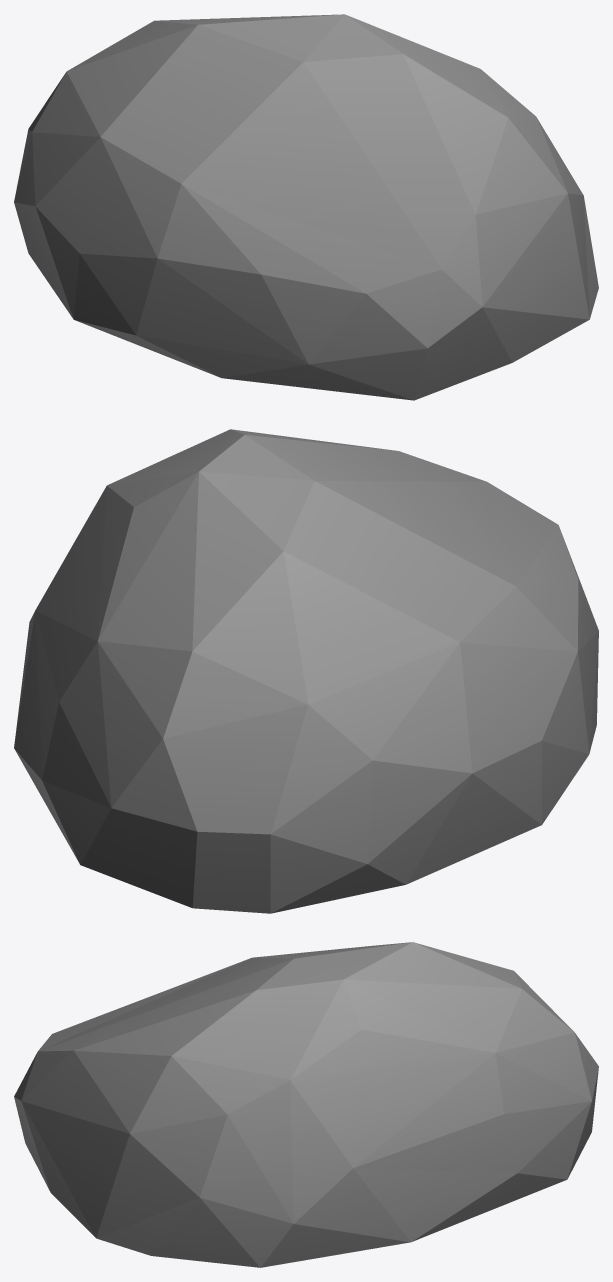
Rendered from Stone2.fbx.
3 views of the same model, one above another, from view 1: azimuth 30°, elevation 25°; view 2: azimuth 150°, elevation 25°; view 3: azimuth 270°, elevation 25° (orthographic). The views are drawn at different scales.
Visible parts, largest first — view 1: Stone_average_01; view 2: Stone_average_01; view 3: Stone_average_01.
Boxes of the visible parts, x1,y1,x2,y2 form: Stone_average_01: [14, 14, 598, 400]; Stone_average_01: [14, 429, 598, 913]; Stone_average_01: [14, 942, 598, 1267].
Size of the model in its own units: 184 by 89.93 by 226.
1 material, 1 textured.
